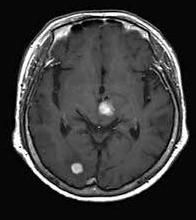Normal_Brain: (1, 1, 188, 218)
